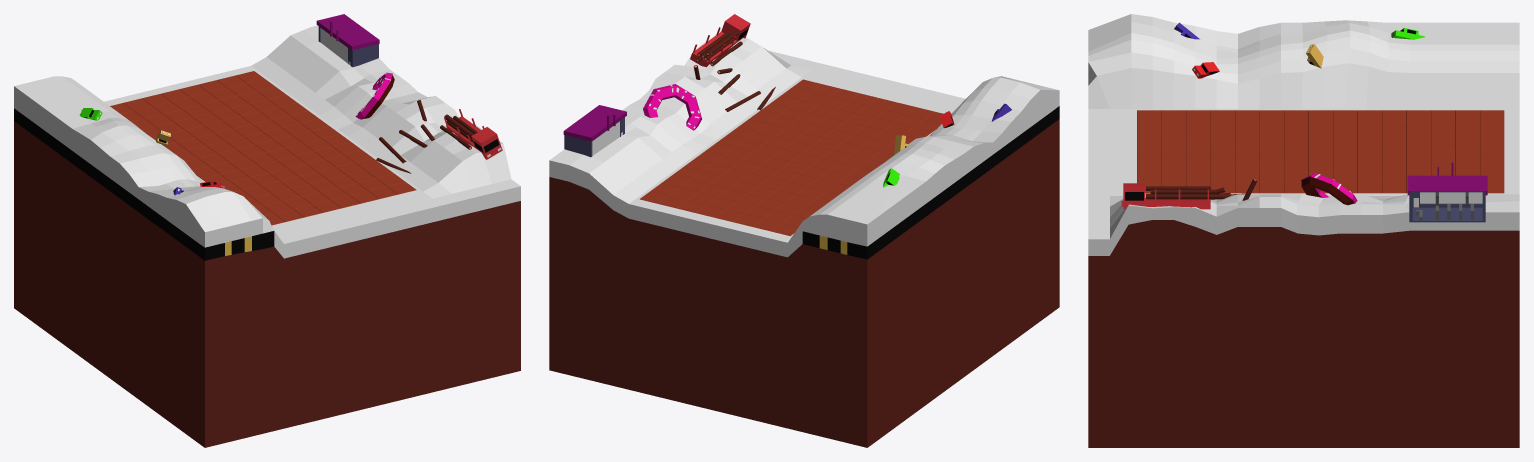
File: lvl2.fbx
3 views of the same model, side by side, from view 1: azimuth 30°, elevation 25°; view 2: azimuth 150°, elevation 25°; view 3: azimuth 270°, elevation 25° (orthographic). The views are drawn at different scales.
Parts seen in each view (by area): view 1: lvl2, Plane, Cube.006, Cube.001, Torus.002, cars; view 2: lvl2, Plane, Cube.006, Torus.002, Cube.001, cars; view 3: lvl2, Plane, Cube.006, Cube.001, cars, Torus.002, Cube.011.
Boxes of the visible parts, bbox=[...] form: lvl2: bbox=[14, 25, 520, 447]; Plane: bbox=[110, 71, 416, 225]; Cube.006: bbox=[316, 14, 379, 67]; Cube.001: bbox=[444, 109, 502, 159]; Torus.002: bbox=[355, 72, 394, 119]; cars: bbox=[79, 108, 224, 195]; lvl2: bbox=[549, 28, 1059, 447]; Plane: bbox=[640, 79, 943, 236]; Cube.006: bbox=[563, 105, 626, 157]; Torus.002: bbox=[643, 84, 701, 130]; Cube.001: bbox=[690, 14, 750, 67]; cars: bbox=[883, 103, 1011, 187]; lvl2: bbox=[1088, 14, 1519, 447]; Plane: bbox=[1137, 110, 1504, 193]; Cube.006: bbox=[1407, 162, 1487, 222]; Cube.001: bbox=[1121, 183, 1210, 209]; cars: bbox=[1174, 22, 1424, 78]; Torus.002: bbox=[1301, 173, 1357, 205]; Cube.011: bbox=[1420, 192, 1482, 203].
Bounding box in the file's own units: 3368 × 2428 × 3524.
